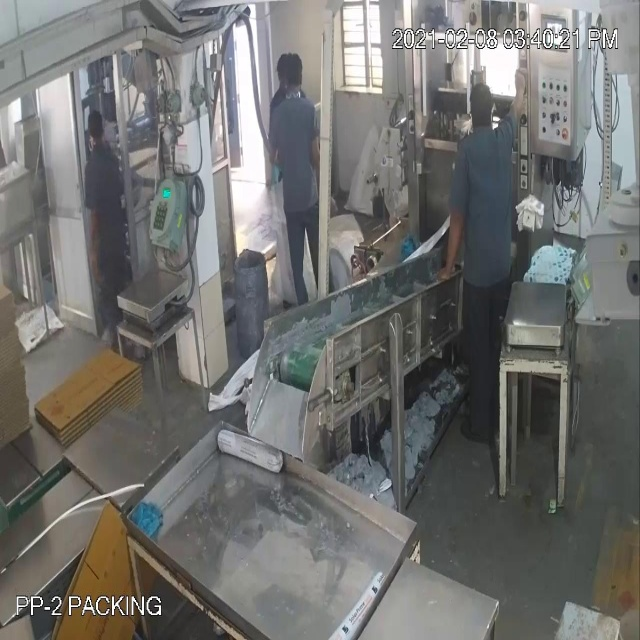Sin_guantes: (435, 204, 474, 282), (512, 59, 536, 130), (88, 203, 109, 284)
